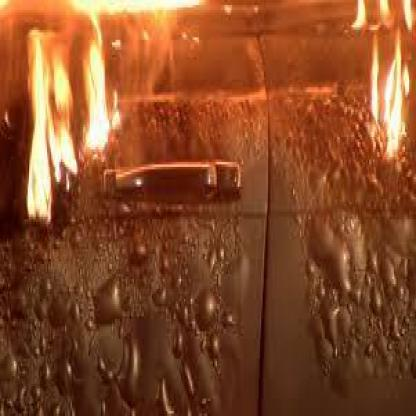fire: (13, 5, 127, 234), (326, 5, 408, 180)
